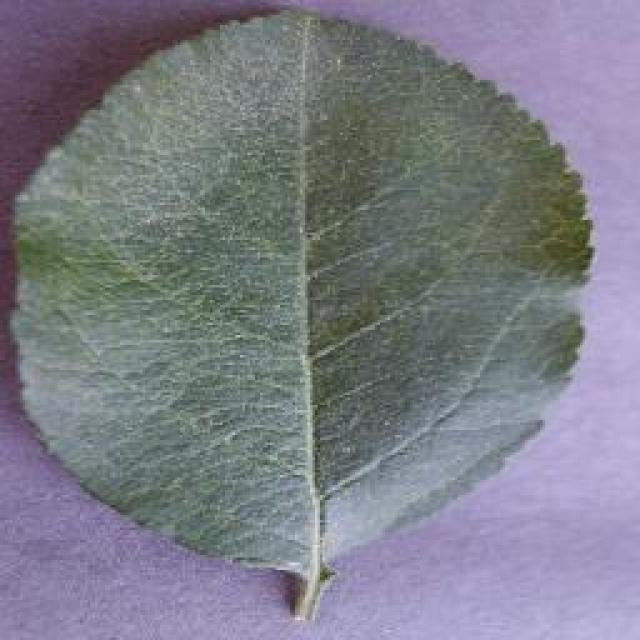apple healthy: (5, 2, 595, 620)
